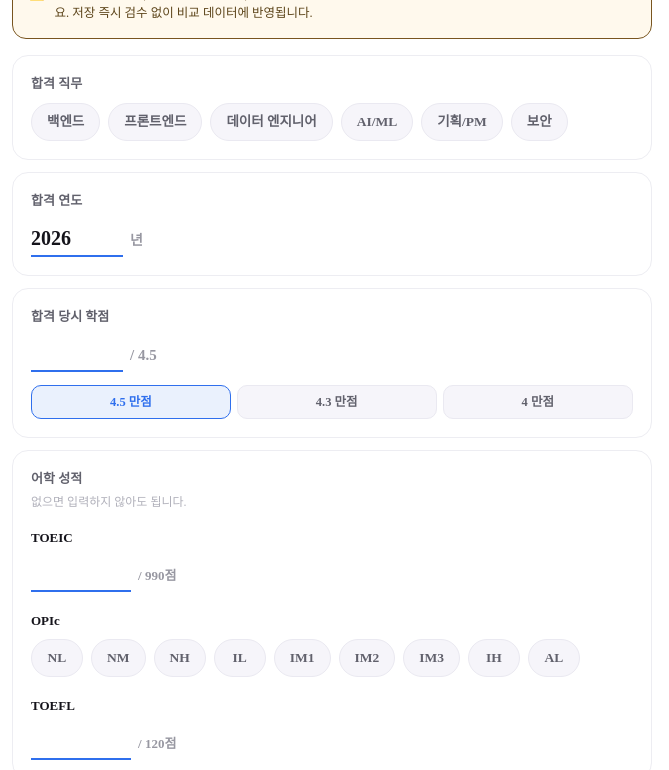
Scenario: AdminPasserEntryTab › 출처를 입력하지 않으면 제출 버튼이 비활성화되고 안내 문구를 보여준다
The width and height of the screenshot is (669, 770).
Click the button "백엔드": (66,122) [31, 103, 100, 141]
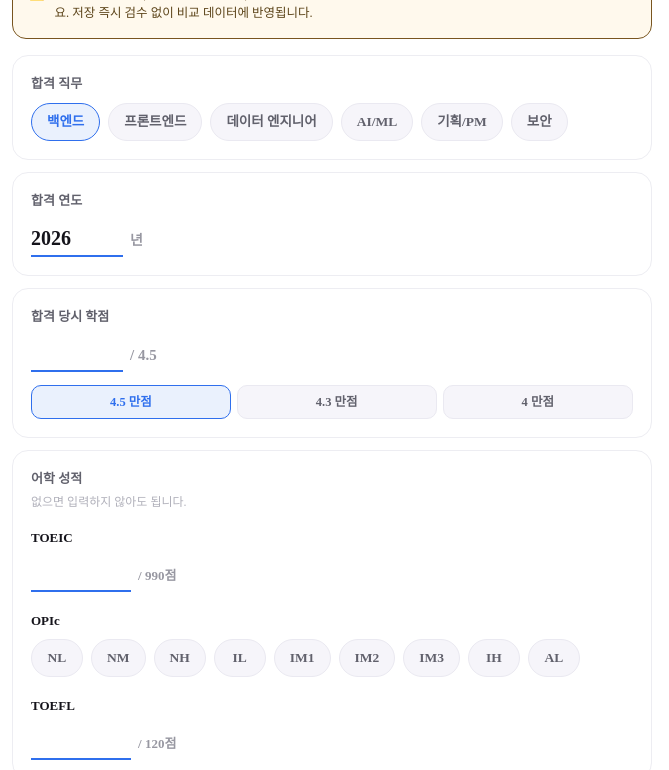
In the field labelled "합격 당시 학점": (77,354) [31, 336, 123, 372], type "3.8"
(page scrolled)
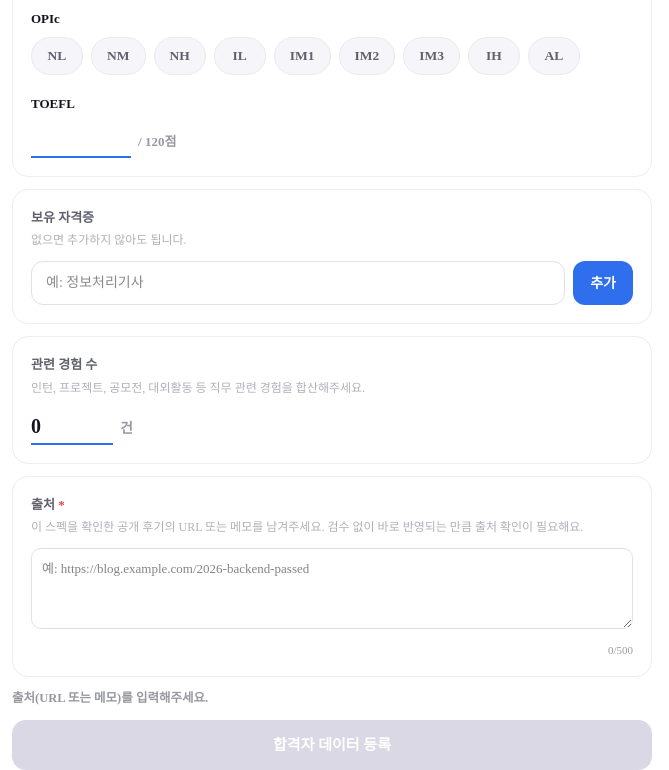
expect the button "합격자 데이터 등록" is disabled: met, box [12, 720, 652, 769]
expect the text "출처(URL 또는 메모)를 입력해주세요." is shown: met, box [12, 691, 208, 705]
